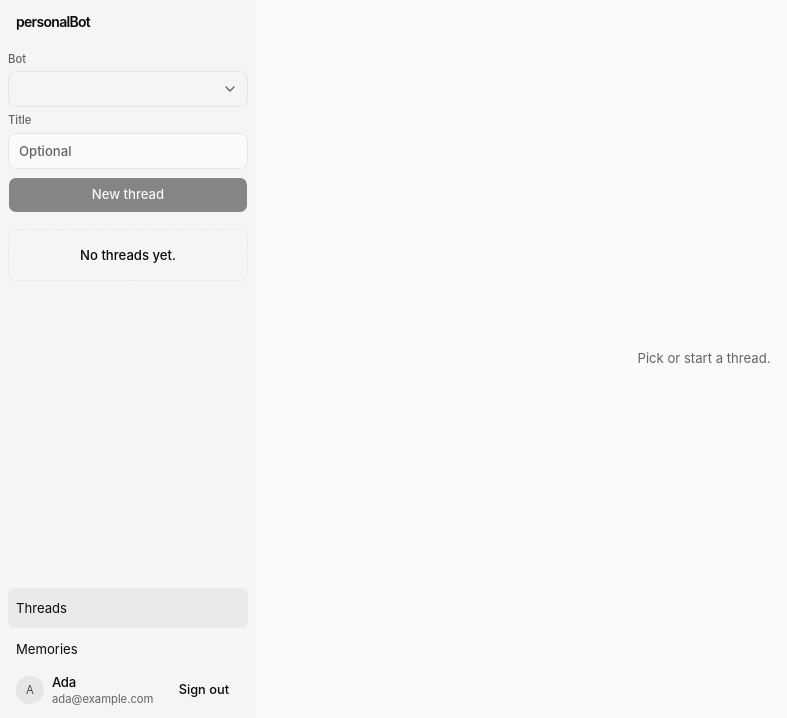
Scenario: App › shows who is signed in and signs out
Expected: the text "ada@example.com" is shown, top-left (52, 692), bottom-right (160, 707)
Click the button "Sign out".
click(204, 690)  # box top-left (168, 676), bottom-right (240, 704)
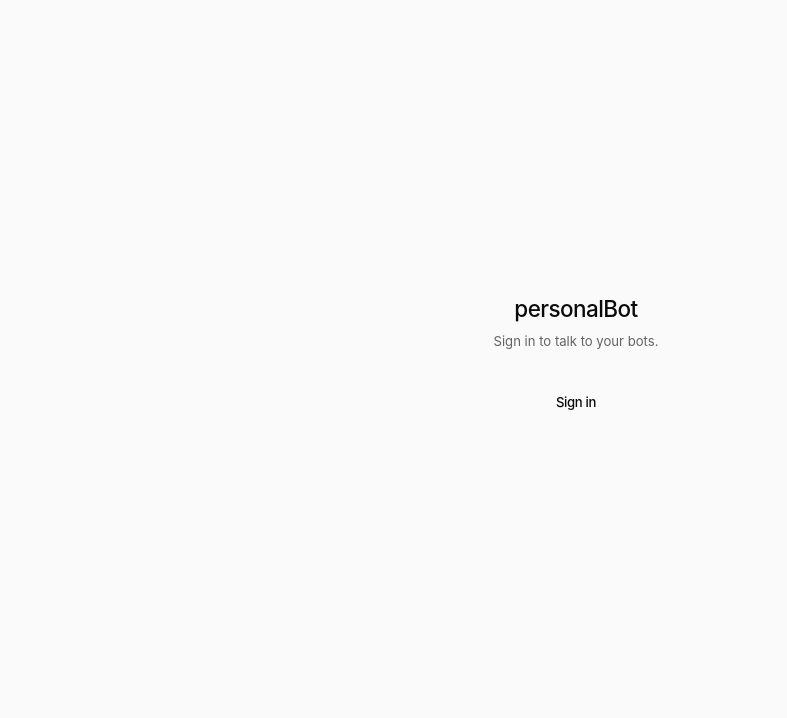
Expected: the link "Sign in" is shown, top-left (428, 382), bottom-right (724, 422)
